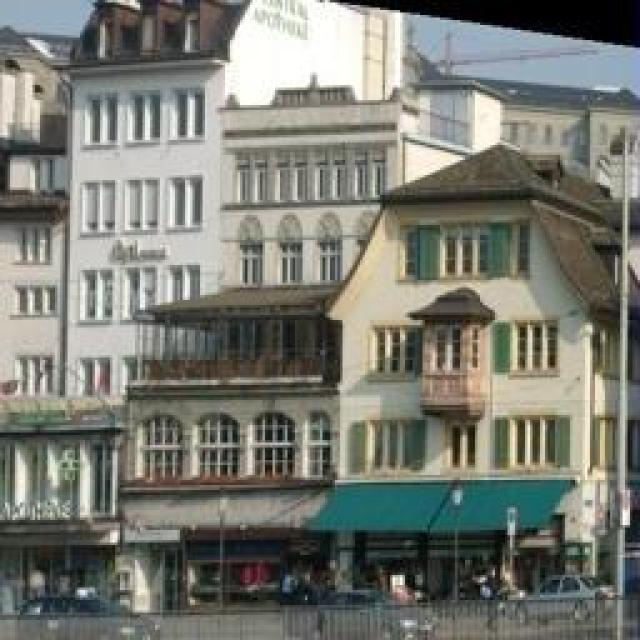building: (330, 145, 640, 633), (53, 0, 235, 575)
